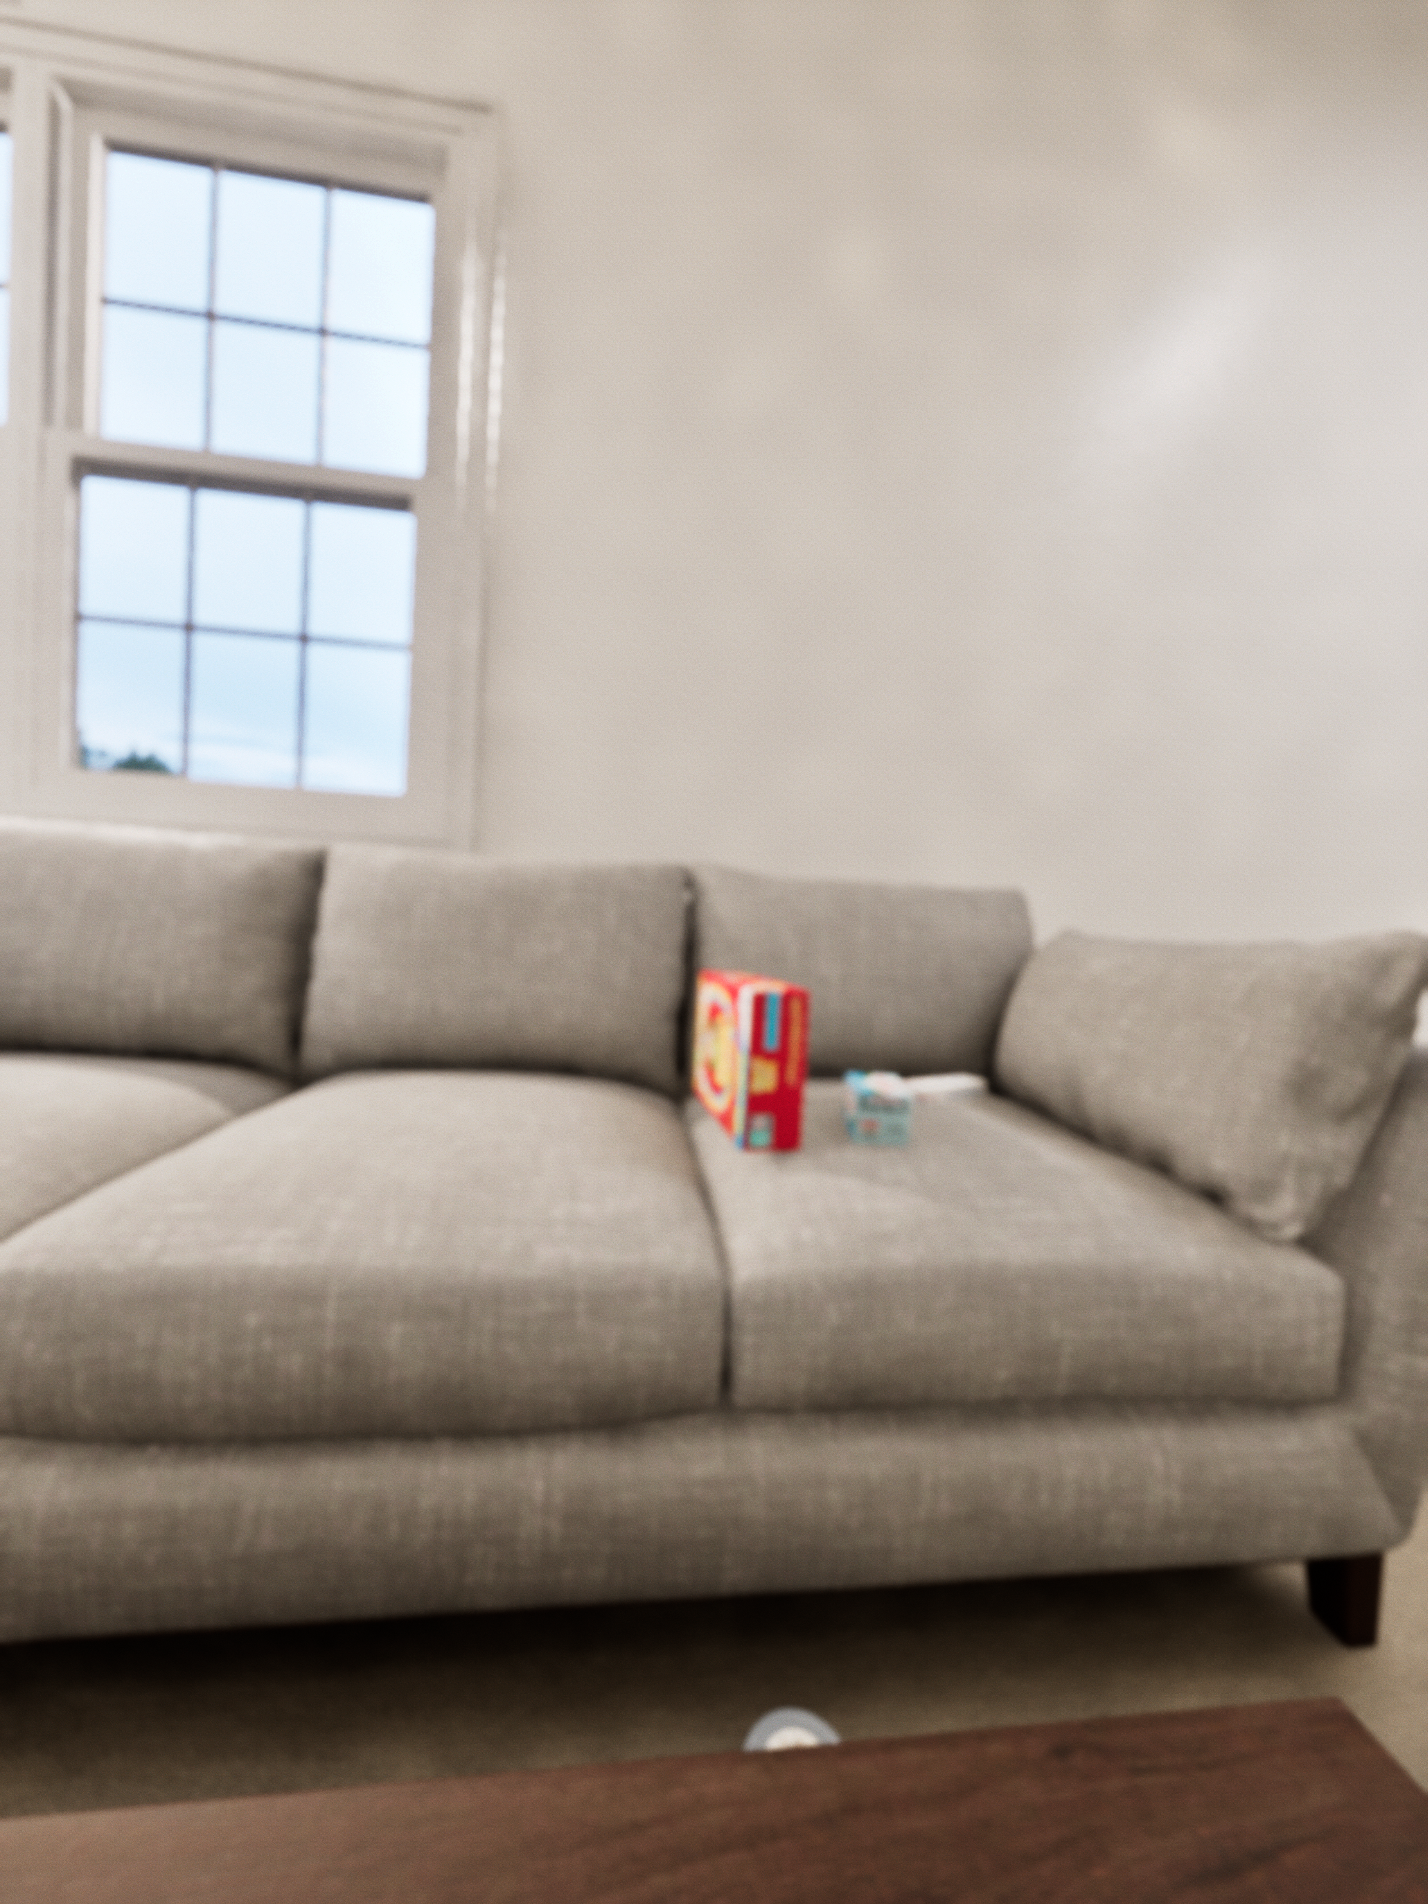soup: (684, 998, 843, 1253)
